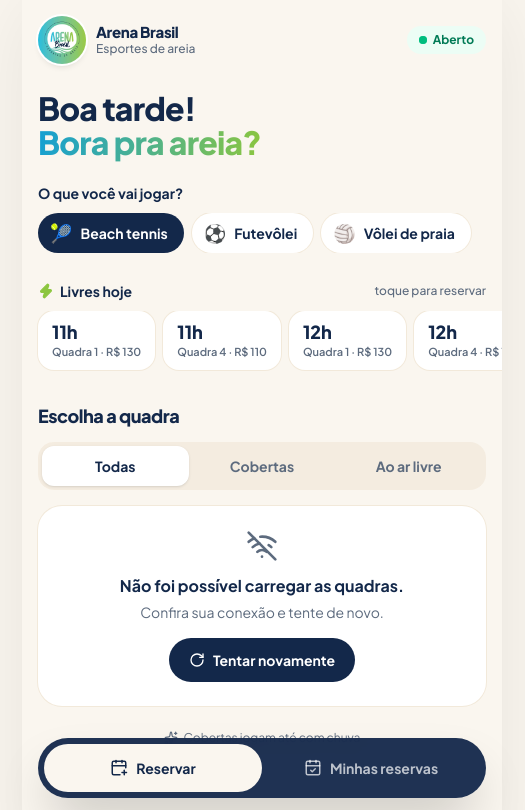
reserva › mostra erro com nova tentativa quando a API está fora do ar
The image size is (525, 810).
Expected: the text "Não foi possível carregar as quadras." is shown, [120,575,404,596]
Click the button "Tentar novamente" at (262, 660), box [169,638,355,682]
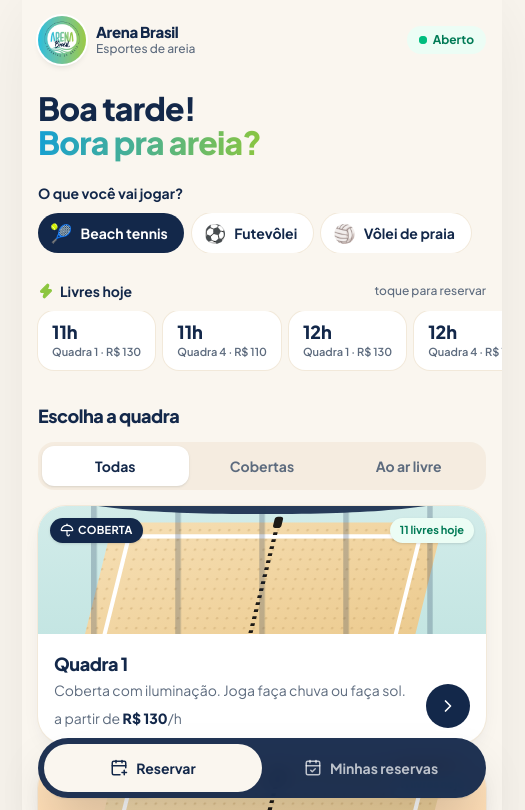
Result: the heading "Quadra 1" is shown at [54,652,128,675]
